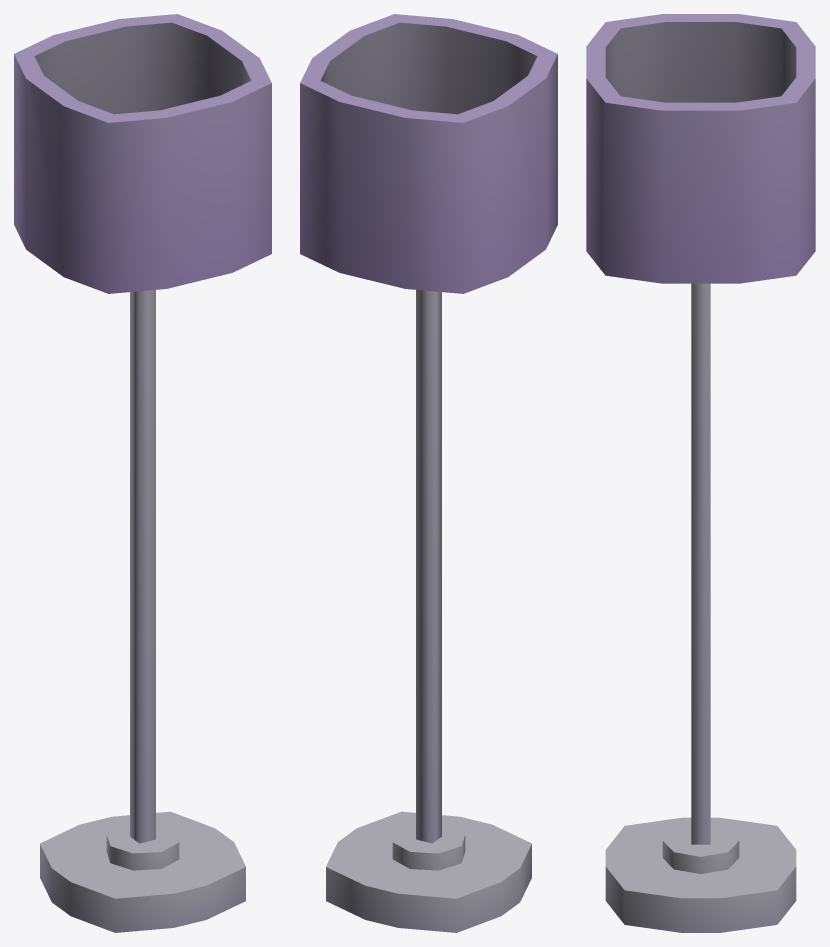
File: lamp-straight-standing.glb
The picture shows the model from 3 angles, left to right: view 1: azimuth 30°, elevation 25°; view 2: azimuth 150°, elevation 25°; view 3: azimuth 270°, elevation 25°; orthographic projection.
Visible parts, largest first — view 1: lamp-straight-standing; view 2: lamp-straight-standing; view 3: lamp-straight-standing.
Boxes of the visible parts, <box> form: lamp-straight-standing: <box>14,14,271,932</box>; lamp-straight-standing: <box>300,14,557,932</box>; lamp-straight-standing: <box>586,14,815,932</box>.
Bounding box in the file's own units: 0.3 × 1.2 × 0.3.
